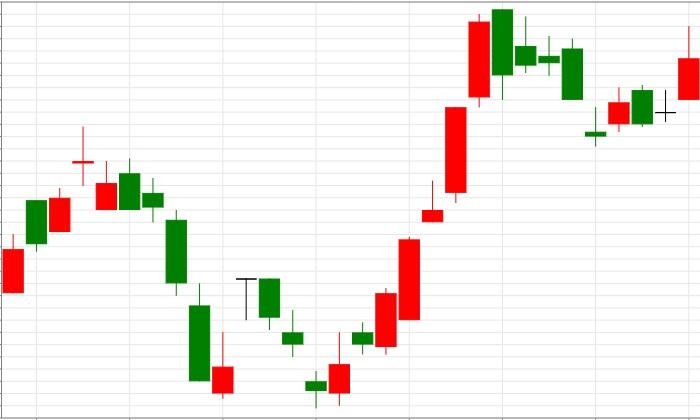bearish_engulfing_fall: (1, 127, 141, 294)
three_black_crows_fall: (212, 277, 328, 408)
